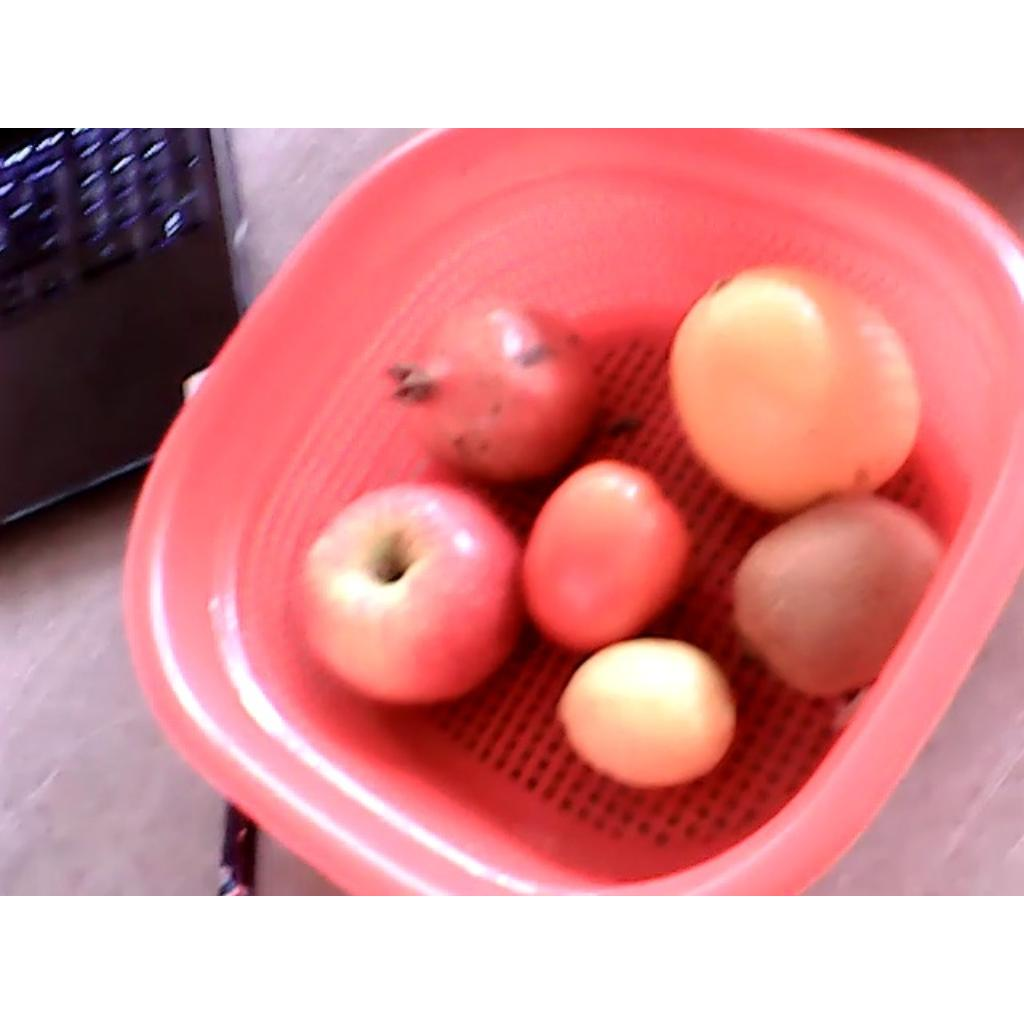apple: (295, 482, 520, 716)
kiwi: (727, 493, 941, 699)
lemon: (555, 637, 739, 791)
orange: (664, 265, 922, 525)
pomegranate: (385, 293, 603, 486)
tomato: (519, 456, 696, 659)
